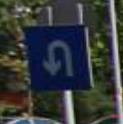u_turn: (26, 24, 93, 91)
